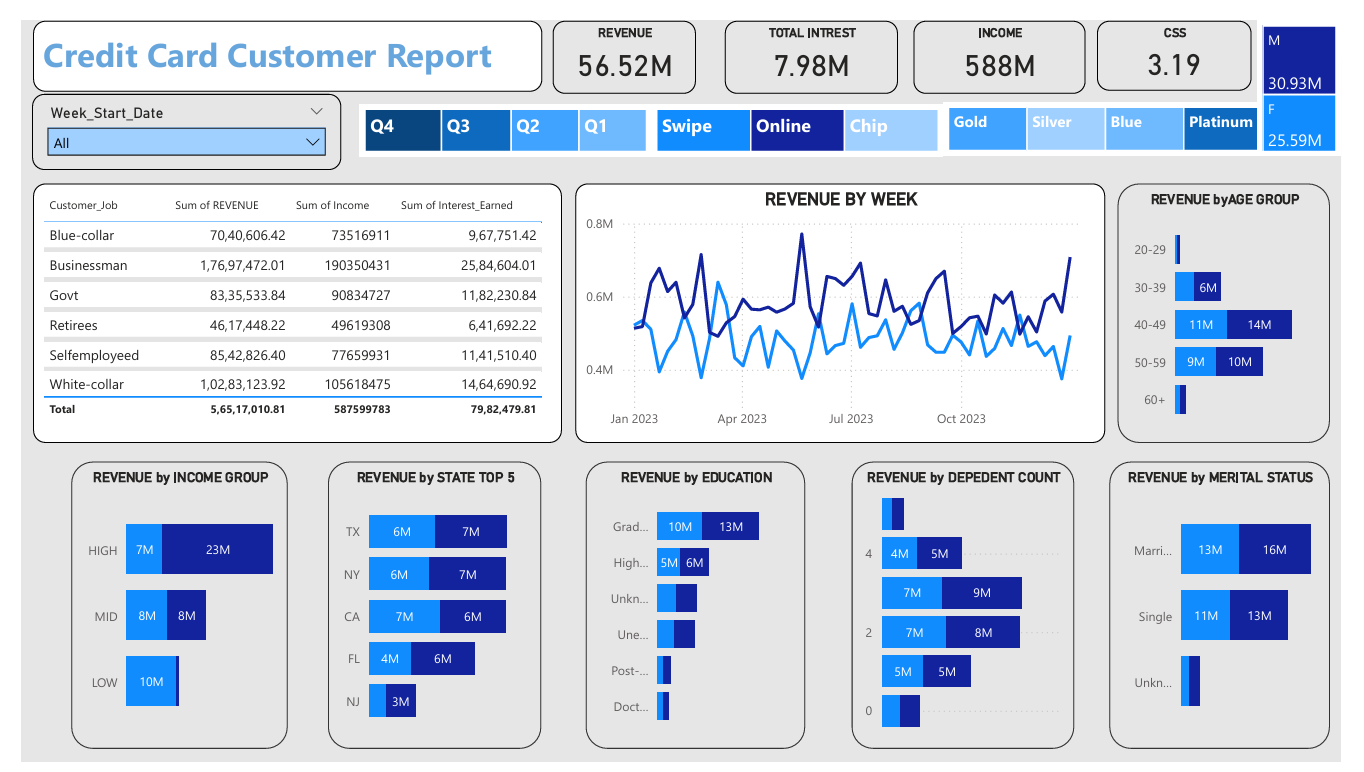

The dashboard page shown, as its layout file describes it:
{"tool":"powerbi","page":{"name":"CC CUSTOMER","canvas":[1280,720],"ordinal":2},"visuals":[{"type":"textbox","box":[10.5,0,494.3,69.1],"z":0},{"type":"tableEx","fields":{"Values":["ccdb cust_detail.Customer_Job","Sum(ccdb cc_detail.REVENUE)","Sum(ccdb cust_detail.Income)","Sum(ccdb cc_detail.Interest_Earned)"]},"box":[10.5,157.8,513.8,252.4],"z":1},{"type":"card","title":"REVENUE","fields":{"Values":["Sum(ccdb cc_detail.REVENUE)"]},"box":[515.3,0,138.2,70.6],"z":2},{"type":"card","title":"TOTAL INTREST","fields":{"Values":["Sum(ccdb cc_detail.Interest_Earned)"]},"box":[682.1,0,168.3,70.6],"z":3},{"type":"card","title":"INCOME","fields":{"Values":["Sum(ccdb cust_detail.Income)"]},"box":[865.4,0,166.8,70.6],"z":4},{"type":"card","title":"CSS","fields":{"Values":["Avg(ccdb cust_detail.Cust_Satisfaction_Score)"]},"box":[1042.7,0,150.2,67.6],"z":5},{"type":"slicer","fields":{"Values":["ccdb cc_detail.Week_Start_Date"]},"box":[10.1,70.6,299.5,74.9],"z":6},{"type":"treemap","fields":{"Group":["ccdb cc_detail.Qtr"],"Values":["Avg(ccdb cc_detail.Client_Num)"]},"box":[327.5,81.1,284,51.1],"z":7},{"type":"treemap","fields":{"Group":["ccdb cc_detail.Use_Chip"],"Values":["Avg(ccdb cc_detail.Client_Num)"]},"box":[610.5,80.6,283.7,51.8],"z":8},{"type":"treemap","fields":{"Values":["Avg(ccdb cc_detail.Client_Num)"],"Group":["ccdb cc_detail.Card_Category"]},"box":[894.2,79.2,312.5,51.8],"z":9},{"type":"lineChart","title":"REVENUE BY WEEK","fields":{"Y":["Sum(ccdb cc_detail.REVENUE)"],"Category":["ccdb cc_detail.Week_Start_Date.Variation.Date Hierarchy.Year","ccdb cc_detail.Week_Start_Date.Variation.Date Hierarchy.Month","ccdb cc_detail.Week_Start_Date.Variation.Date Hierarchy.Day"],"Series":["ccdb cust_detail.Gender"]},"box":[537.1,158.4,514,252],"z":10},{"type":"barChart","title":" REVENUE by INCOME GROUP","fields":{"Category":["ccdb cust_detail.IncomeGroup"],"Y":["Sum(ccdb cc_detail.REVENUE)"],"Series":["ccdb cust_detail.Gender"]},"box":[47.5,427.6,210.2,279.3],"z":11},{"type":"barChart","title":" REVENUE byAGE GROUP","fields":{"Y":["Sum(ccdb cc_detail.REVENUE)"],"Category":["ccdb cust_detail.AgeGroup"],"Series":["ccdb cust_detail.Gender"]},"box":[1062.6,158.4,205.9,252],"z":12},{"type":"barChart","title":" REVENUE by EDUCATION","fields":{"Y":["Sum(ccdb cc_detail.REVENUE)"],"Category":["ccdb cust_detail.Education_Level"],"Series":["ccdb cust_detail.Gender"]},"box":[547.2,427.6,213.1,279.3],"z":13},{"type":"barChart","title":" REVENUE by DEPEDENT COUNT","fields":{"Y":["Sum(ccdb cc_detail.REVENUE)"],"Category":["ccdb cust_detail.Dependent_Count"],"Series":["ccdb cust_detail.Gender"]},"box":[804.9,427.6,216,279.3],"z":14},{"type":"treemap","fields":{"Group":["ccdb cust_detail.Gender"],"Values":["Sum(ccdb cc_detail.REVENUE)"]},"box":[1199.4,0,80.6,132.5],"z":15},{"type":"barChart","title":" REVENUE by STATE TOP 5","fields":{"Y":["Sum(ccdb cc_detail.REVENUE)"],"Category":["ccdb cust_detail.State_cd"],"Series":["ccdb cust_detail.Gender"]},"box":[296.6,427.6,207.3,279.3],"z":16},{"type":"barChart","title":" REVENUE by MERITAL STATUS","fields":{"Y":["Sum(ccdb cc_detail.REVENUE)"],"Category":["ccdb cust_detail.Marital_Status"],"Series":["ccdb cust_detail.Gender"]},"box":[1055.4,427.6,213.1,279.3],"z":17}]}

Visuals, with their boxes in screenshot pixels (x1, y1, x2, y2), scaled from the page's 1280x720 canvas onto the 1364x772 screenshot:
textbox: [left=11, top=0, right=538, bottom=74]
tableEx - ccdb cust_detail.Customer_Job x Sum(ccdb cc_detail.REVENUE): [left=11, top=169, right=559, bottom=440]
"REVENUE" card: [left=549, top=0, right=696, bottom=76]
"TOTAL INTREST" card: [left=727, top=0, right=906, bottom=76]
"INCOME" card: [left=922, top=0, right=1100, bottom=76]
"CSS" card: [left=1111, top=0, right=1271, bottom=72]
slicer - ccdb cc_detail.Week_Start_Date: [left=11, top=76, right=330, bottom=156]
treemap - ccdb cc_detail.Qtr x Avg(ccdb cc_detail.Client_Num): [left=349, top=87, right=652, bottom=142]
treemap - ccdb cc_detail.Use_Chip x Avg(ccdb cc_detail.Client_Num): [left=651, top=86, right=953, bottom=142]
treemap - Avg(ccdb cc_detail.Client_Num) x ccdb cc_detail.Card_Category: [left=953, top=85, right=1286, bottom=140]
"REVENUE BY WEEK" lineChart: [left=572, top=170, right=1120, bottom=440]
" REVENUE by INCOME GROUP" barChart: [left=51, top=458, right=275, bottom=758]
" REVENUE byAGE GROUP" barChart: [left=1132, top=170, right=1352, bottom=440]
" REVENUE by EDUCATION" barChart: [left=583, top=458, right=810, bottom=758]
" REVENUE by DEPEDENT COUNT" barChart: [left=858, top=458, right=1088, bottom=758]
treemap - ccdb cust_detail.Gender x Sum(ccdb cc_detail.REVENUE): [left=1278, top=0, right=1363, bottom=142]
" REVENUE by STATE TOP 5" barChart: [left=316, top=458, right=537, bottom=758]
" REVENUE by MERITAL STATUS" barChart: [left=1125, top=458, right=1352, bottom=758]
